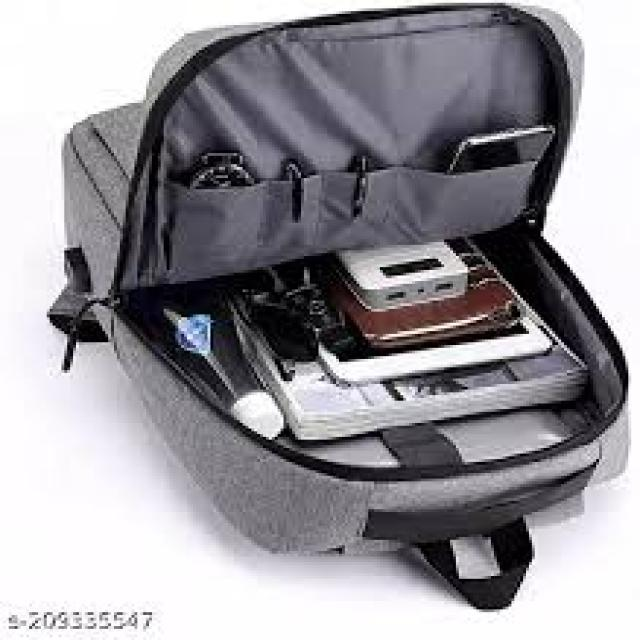backpack: (44, 1, 632, 610)
